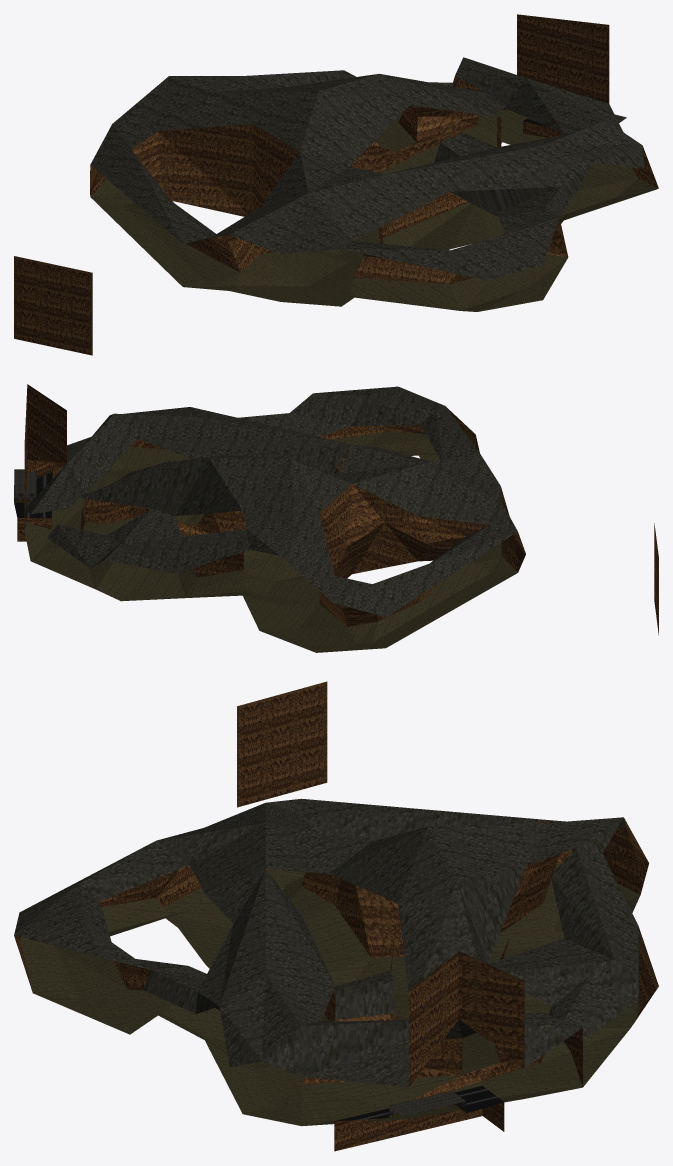
Rendered from pilotwingscave.obj.
3 renders of one model, top to bottom at view 1: azimuth 30°, elevation 25°; view 2: azimuth 150°, elevation 25°; view 3: azimuth 270°, elevation 25°, orthographic. The views are drawn at different scales.
Parts seen in each view (by area): view 1: pilotwingscave; view 2: pilotwingscave; view 3: pilotwingscave.
Boxes of the visible parts, x1,y1,x2,y2 form: pilotwingscave: (14,14,658,355); pilotwingscave: (14,384,658,652); pilotwingscave: (14,681,658,1151).
Size of the model in its own units: 144 by 30.7 by 102.
